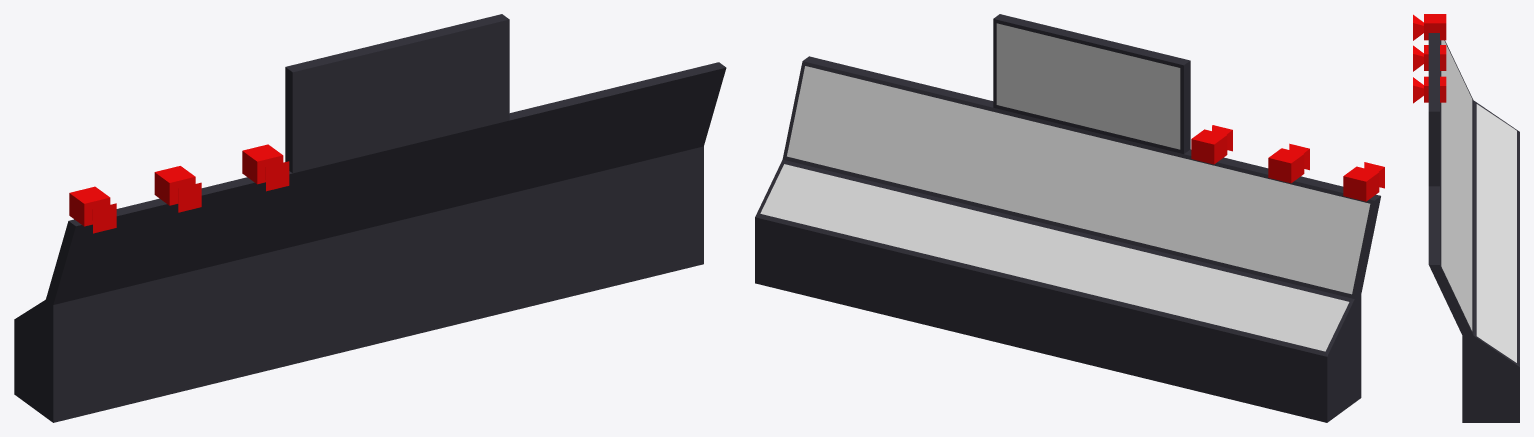
File: Camera_System.fbx
The picture shows the model from 3 angles, left to right: view 1: azimuth 30°, elevation 25°; view 2: azimuth 150°, elevation 25°; view 3: azimuth 270°, elevation 25°; orthographic projection. The views are drawn at different scales.
Parts seen in each view (by area): view 1: Mixing console, Camera handheld.002, Camera handheld, Camera handheld.001; view 2: Mixing console, Camera handheld, Camera handheld.001, Camera handheld.002; view 3: Mixing console, Camera handheld.002, Camera handheld, Camera handheld.001.
Boxes of the visible parts, x1,y1,x2,y2 form: Mixing console: [14, 14, 726, 422]; Camera handheld.002: [69, 186, 116, 233]; Camera handheld: [242, 144, 289, 191]; Camera handheld.001: [154, 166, 201, 212]; Mixing console: [755, 14, 1380, 422]; Camera handheld: [1191, 125, 1232, 164]; Camera handheld.001: [1268, 143, 1309, 183]; Camera handheld.002: [1343, 162, 1384, 201]; Mixing console: [1428, 33, 1519, 422]; Camera handheld.002: [1413, 14, 1446, 40]; Camera handheld: [1413, 76, 1446, 103]; Camera handheld.001: [1413, 45, 1446, 71].
Size of the model in its own units: 500 by 231 by 96.02.
